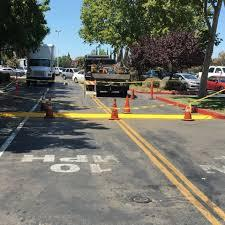Bump: (0, 110, 214, 119)
